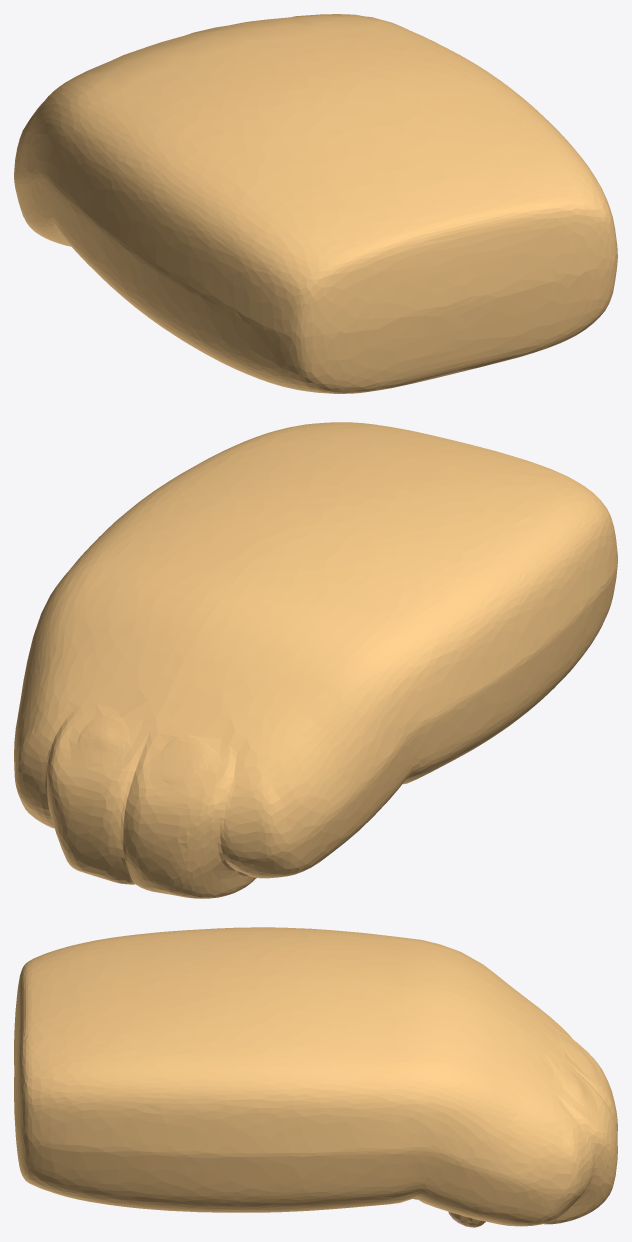
File: pata_o_1.glb
3 renders of one model, top to bottom at view 1: azimuth 30°, elevation 25°; view 2: azimuth 150°, elevation 25°; view 3: azimuth 270°, elevation 25°, orthographic. The views are drawn at different scales.
Size of the model in its own units: 0.0965 by 0.0597 by 0.1449.
